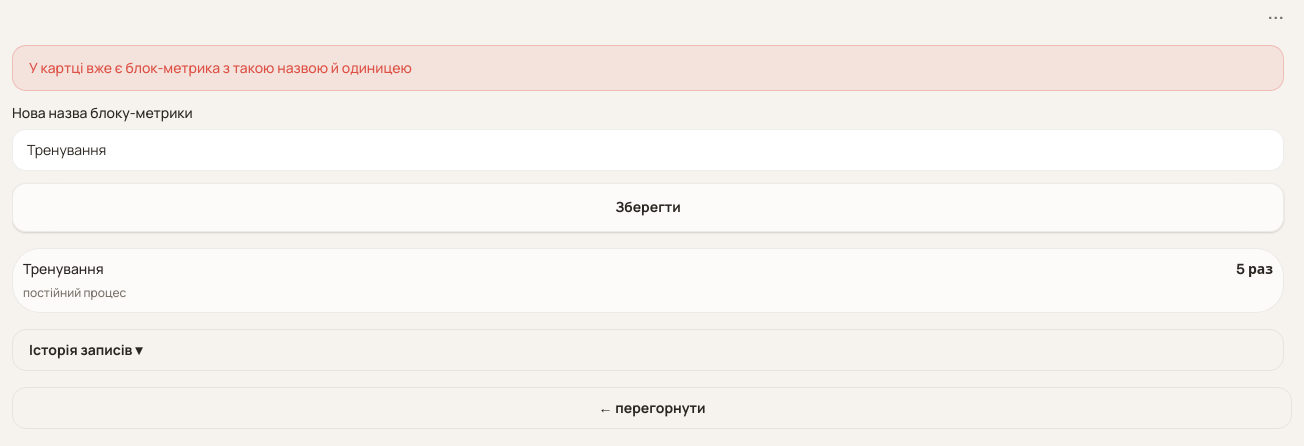
Test: SCR-03 transfer-collision: пропонує перейменувати блок при колізії назви (AC-15)
Check: the text "У картці вже є блок-метрика з такою назвою й одиницею" is shown, box [12,45,1284,91]
Replace the text in the field labelled "Нова назва блоку-метрики" with "Тренування (перенесено)": (648, 150) [12,129,1284,171]
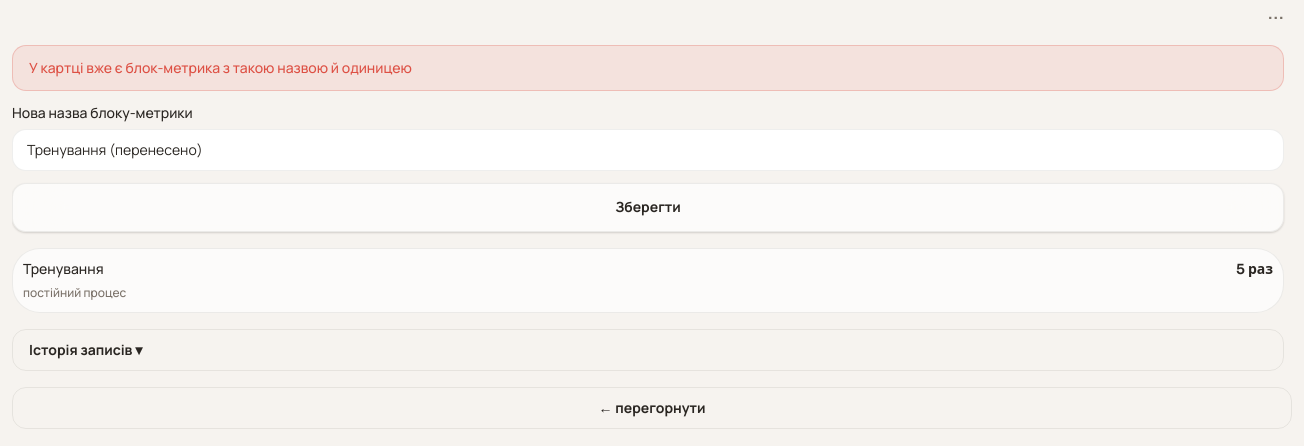
Click the button "Зберегти": (648, 207) [12,183,1284,232]
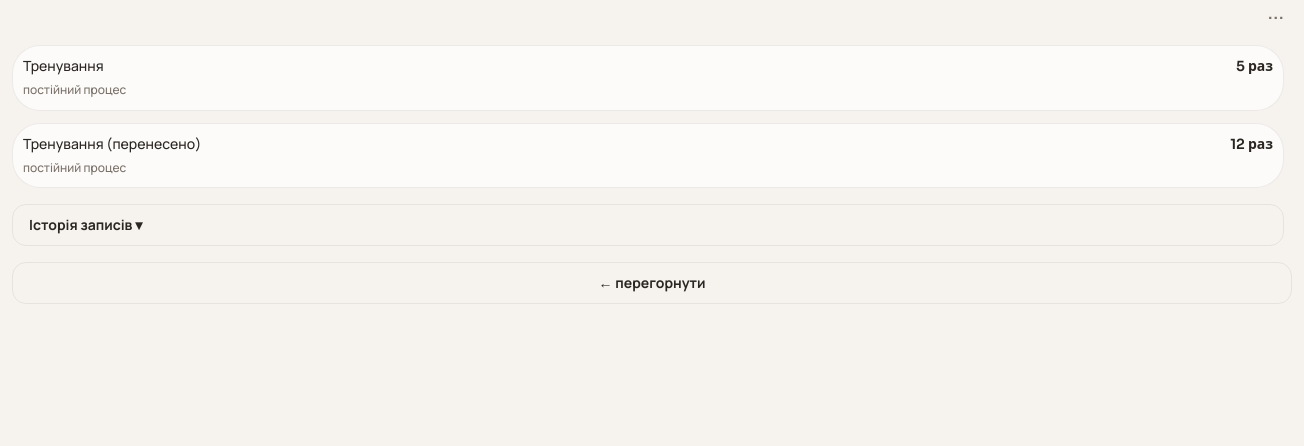
Check: the text "Тренування (перенесено)" is shown, box [23,134,201,152]
Check: the text "12 раз" is shown, box [1230,134,1273,154]
Check: the text labelled "Нова назва блоку-метрики" is gone
